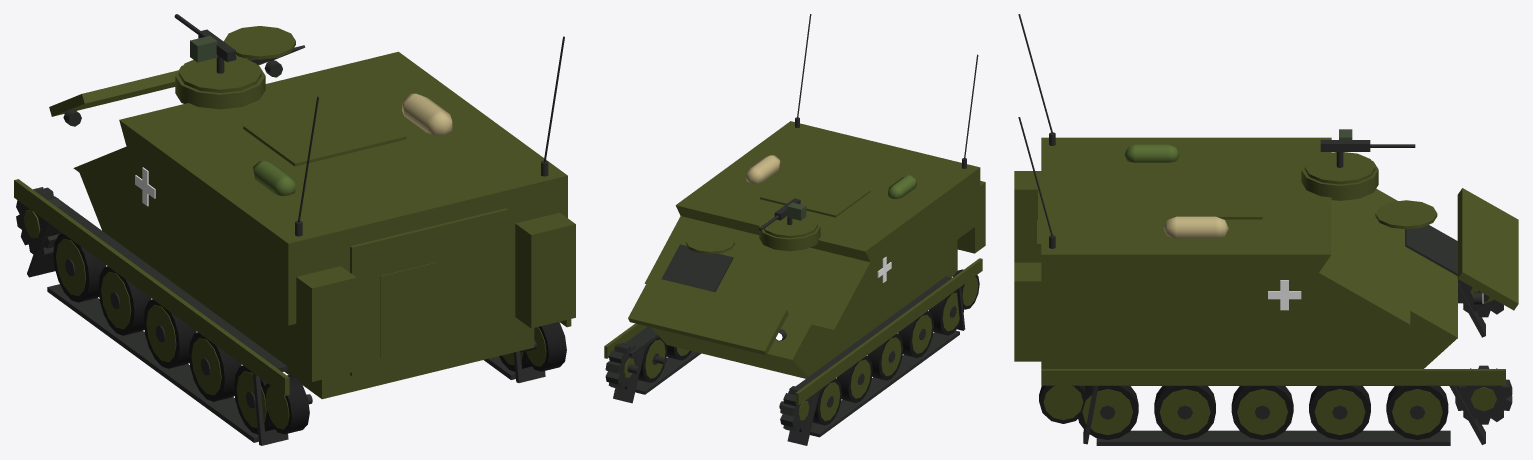
File: m113-apc.glb
3 renders of one model, left to right at view 1: azimuth 30°, elevation 25°; view 2: azimuth 150°, elevation 25°; view 3: azimuth 270°, elevation 25°, orthographic. The views are drawn at different scales.
Visible parts, largest first — view 1: Mesh_HullCut, Mesh_RearRamp, Mesh_FuelTank_L, Mesh_FuelTank_R, Mesh_SkirtLeft, Mesh_CargoHatch, Mesh_CrewDoor, Mesh_TrackBot_L, Mesh_TrackTop_L, Mesh_CupolaLid, Mesh_TrimVane, Mesh_DriverHatch (+19 smaller); view 2: Mesh_HullCut, Mesh_TrimVane, Mesh_SkirtLeft, Mesh_CargoHatch, Mesh_EngineGrille, Mesh_TrackBot_L, Mesh_TrackTop_L, Mesh_Sprocket_R, Mesh_CupolaLid, Mesh_DriverHatch, Mesh_CupolaBase, Mesh_Sprocket_L (+19 smaller); view 3: Mesh_HullCut, Mesh_SkirtRight, Mesh_TrimVane, Mesh_CargoHatch, Mesh_TrackBot_R, Mesh_FuelTank_R, Mesh_FuelTank_L, Mesh_CupolaLid, Mesh_WheelRim_R3, Mesh_WheelRim_R1, Mesh_WheelRim_R2, Mesh_WheelRim_R4 (+16 smaller).
Part boxes in pixels (x1,y1,x2,y2): Mesh_HullCut: (73, 51, 567, 399); Mesh_RearRamp: (350, 208, 508, 376); Mesh_FuelTank_L: (296, 266, 356, 381); Mesh_FuelTank_R: (515, 212, 575, 328); Mesh_SkirtLeft: (14, 179, 289, 395); Mesh_CargoHatch: (243, 98, 406, 166); Mesh_CrewDoor: (380, 262, 436, 358); Mesh_TrackBot_L: (47, 284, 258, 442); Mesh_TrackTop_L: (54, 196, 287, 371); Mesh_CupolaLid: (179, 56, 261, 92); Mesh_TrimVane: (49, 56, 266, 116); Mesh_DriverHatch: (223, 26, 295, 59); Mesh_HullCut: (644, 121, 980, 378); Mesh_TrimVane: (628, 276, 788, 355); Mesh_SkirtLeft: (795, 258, 982, 405); Mesh_CargoHatch: (760, 171, 870, 217); Mesh_EngineGrille: (661, 244, 733, 291); Mesh_TrackBot_L: (810, 330, 959, 437); Mesh_TrackTop_L: (788, 276, 952, 393); Mesh_Sprocket_R: (605, 343, 639, 389); Mesh_CupolaLid: (762, 214, 817, 238); Mesh_DriverHatch: (686, 231, 734, 254); Mesh_CupolaBase: (759, 219, 820, 251); Mesh_Sprocket_L: (780, 385, 813, 432); Mesh_HullCut: (1041, 137, 1457, 368); Mesh_SkirtRight: (1041, 369, 1505, 385); Mesh_TrimVane: (1457, 188, 1518, 310); Mesh_CargoHatch: (1174, 170, 1262, 219); Mesh_TrackBot_R: (1096, 430, 1450, 445); Mesh_FuelTank_R: (1014, 262, 1041, 361); Mesh_FuelTank_L: (1014, 171, 1041, 262); Mesh_CupolaLid: (1304, 152, 1375, 184); Mesh_WheelRim_R3: (1314, 389, 1365, 435); Mesh_WheelRim_R1: (1159, 389, 1210, 435); Mesh_WheelRim_R2: (1237, 389, 1287, 435); Mesh_WheelRim_R4: (1392, 389, 1442, 435).
Size of the model in its own units: 2.56 by 3.2 by 4.56.
